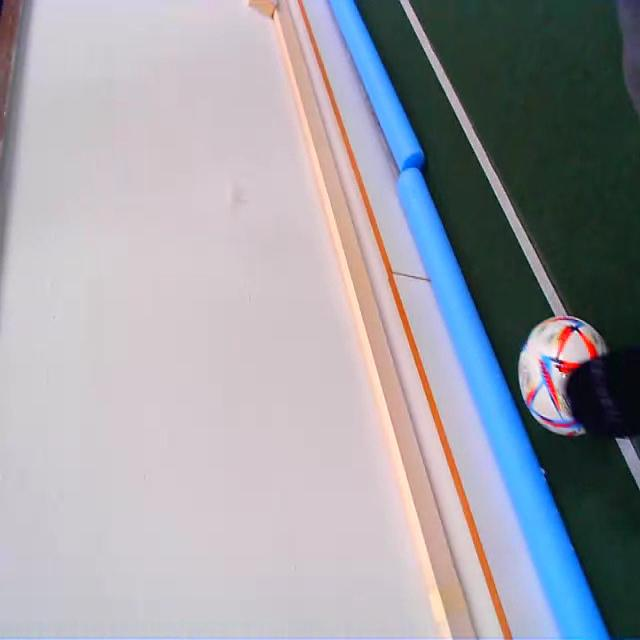ball: (519, 314, 601, 437)
